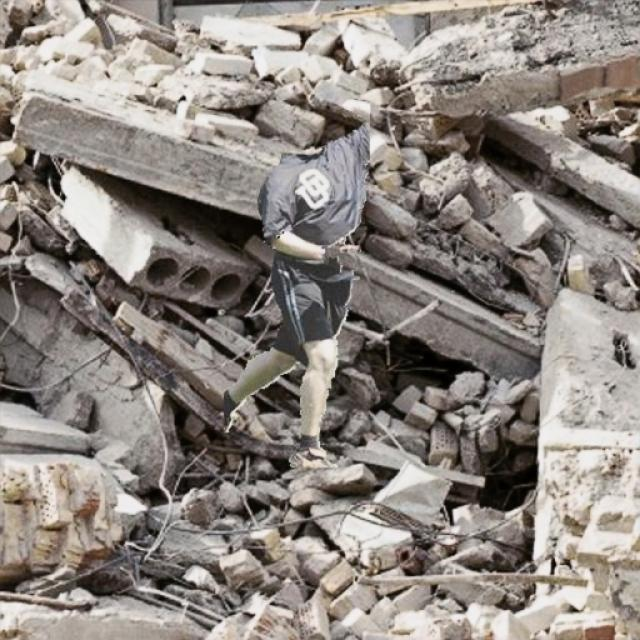Person in Rubble: (224, 99, 368, 466)
